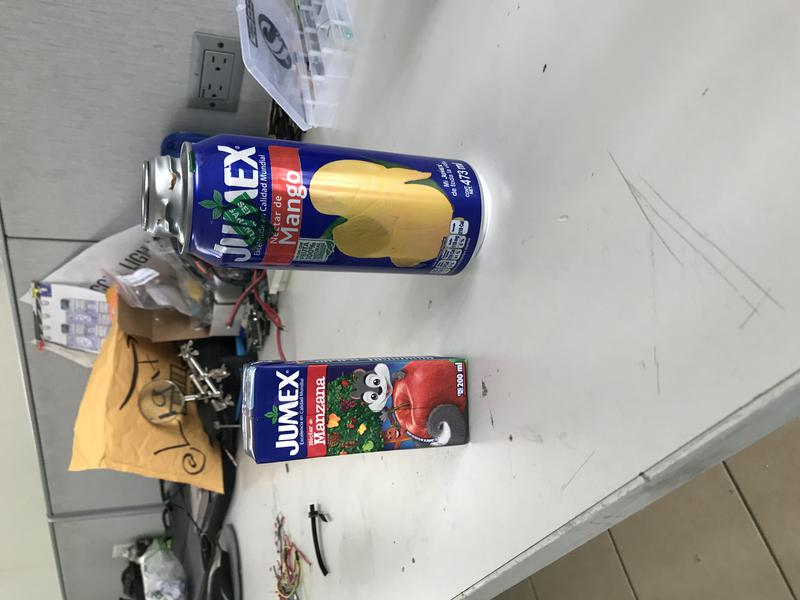jumex_botella: (144, 133, 489, 278)
jumex_cajita: (242, 356, 471, 464)
